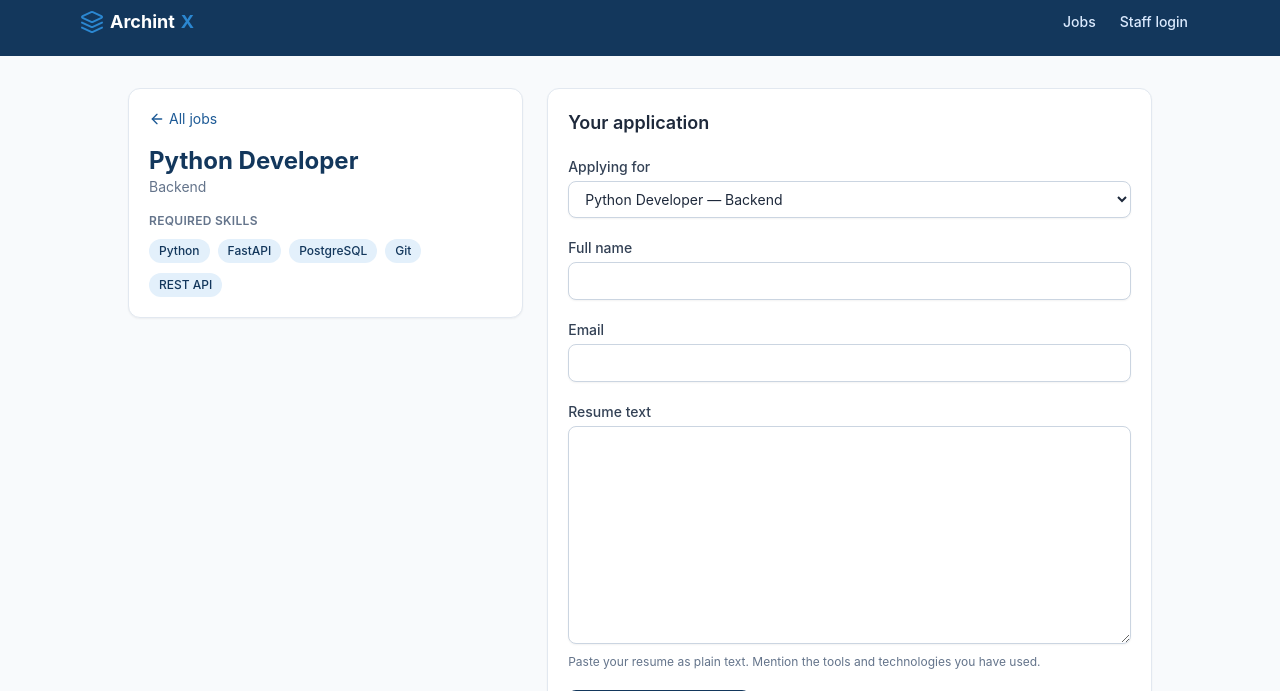
it: apply flow › submits once, then shows the saved result from the backend
The width and height of the screenshot is (1280, 691).
Type "Asha Rao" into the field labelled "Full name" at (850,281), box left=568, top=262, right=1131, bottom=300
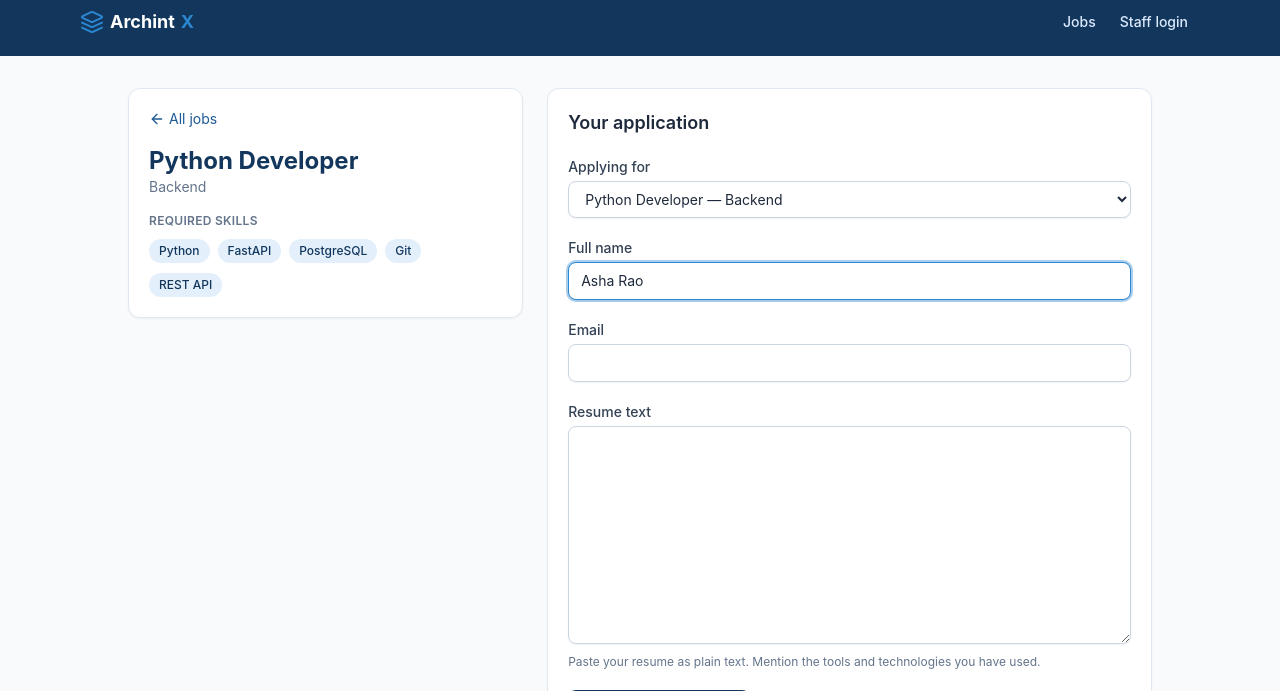
Type "asha@example.com" into the field labelled "Email" at (850,363), box left=568, top=344, right=1131, bottom=382
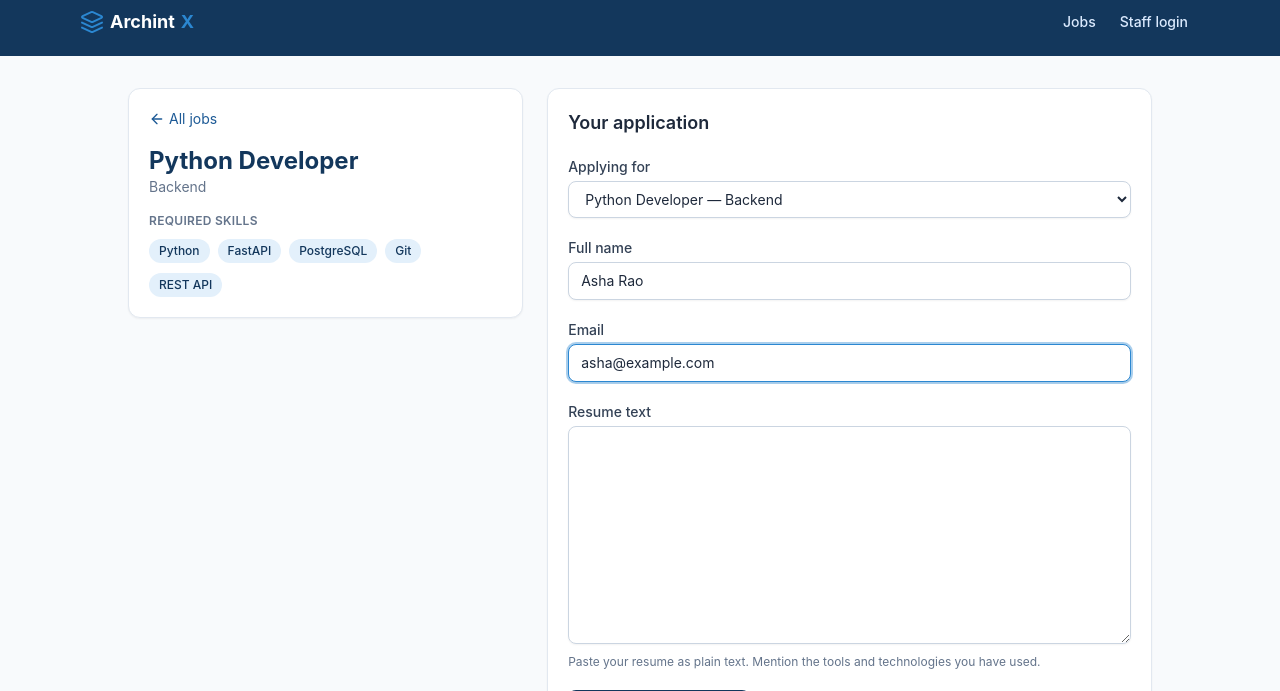
Type "Python, FastAPI, Git and REST APIs experience" into the text box labelled "Resume text" at (850,535), box left=568, top=426, right=1131, bottom=644
(page scrolled)
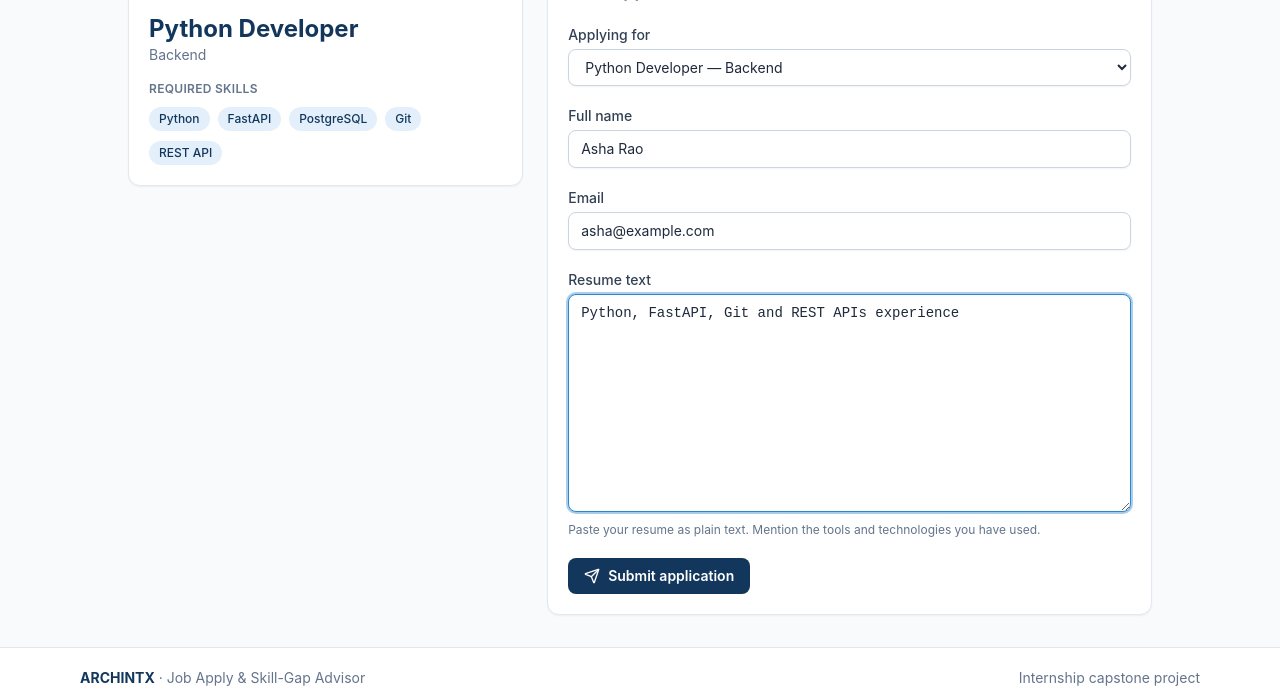
Double-click the button "Submit application" at (659,576), box left=568, top=558, right=750, bottom=594
(page scrolled)
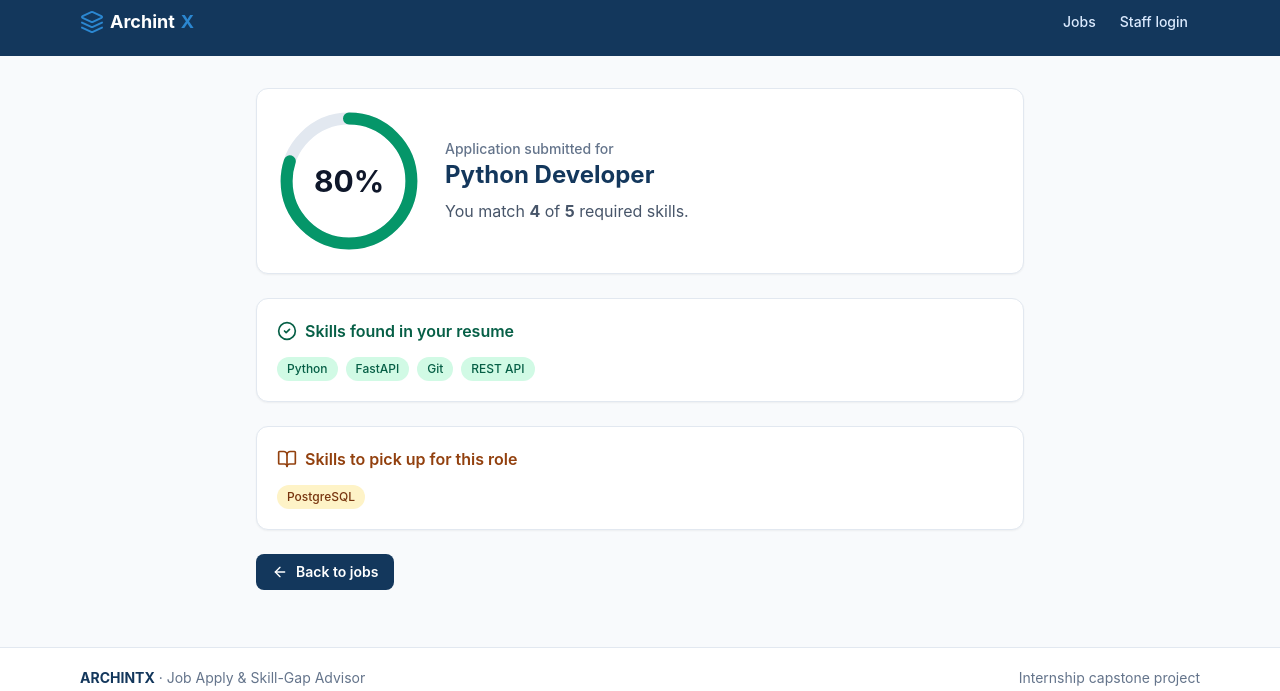
Result: the heading "Skills to pick up for this role" is shown at left=277, top=449, right=518, bottom=469
Result: the picture named "match score 80 percent" is shown at left=277, top=109, right=421, bottom=253
Result: the text "PostgreSQL" is shown at left=277, top=485, right=365, bottom=509
